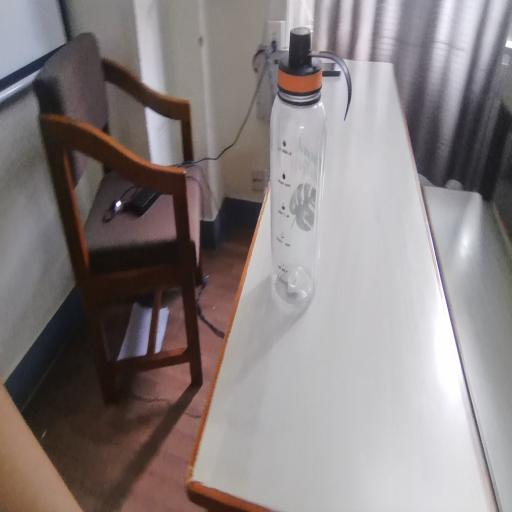Bottle: (252, 23, 340, 341)
